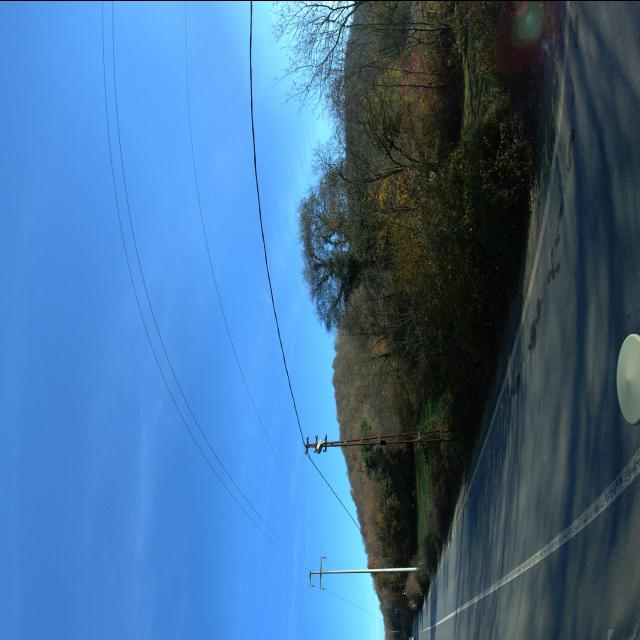Utility Pole Information Plate: (381, 439, 386, 444)
